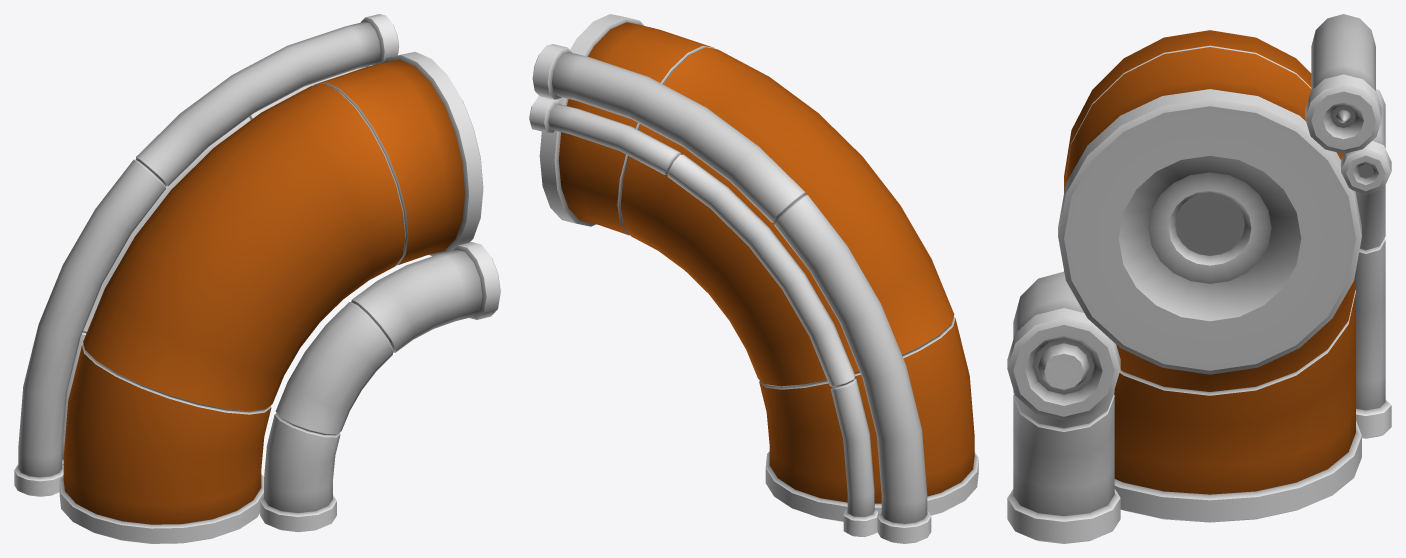
Rendered from deco_pipe_curve_D.FBX.
3 renders of one model, left to right at view 1: azimuth 30°, elevation 25°; view 2: azimuth 150°, elevation 25°; view 3: azimuth 270°, elevation 25°, orthographic. The views are drawn at different scales.
Parts seen in each view (by area): view 1: deco_pipe_curve_D; view 2: deco_pipe_curve_D; view 3: deco_pipe_curve_D.
Part boxes in pixels (x1,y1,x2,y2): deco_pipe_curve_D: (14,14,500,543); deco_pipe_curve_D: (529,14,978,543); deco_pipe_curve_D: (1007,14,1391,543).
Bounding box in the file's own units: 1.37 × 1.37 × 0.8359.
